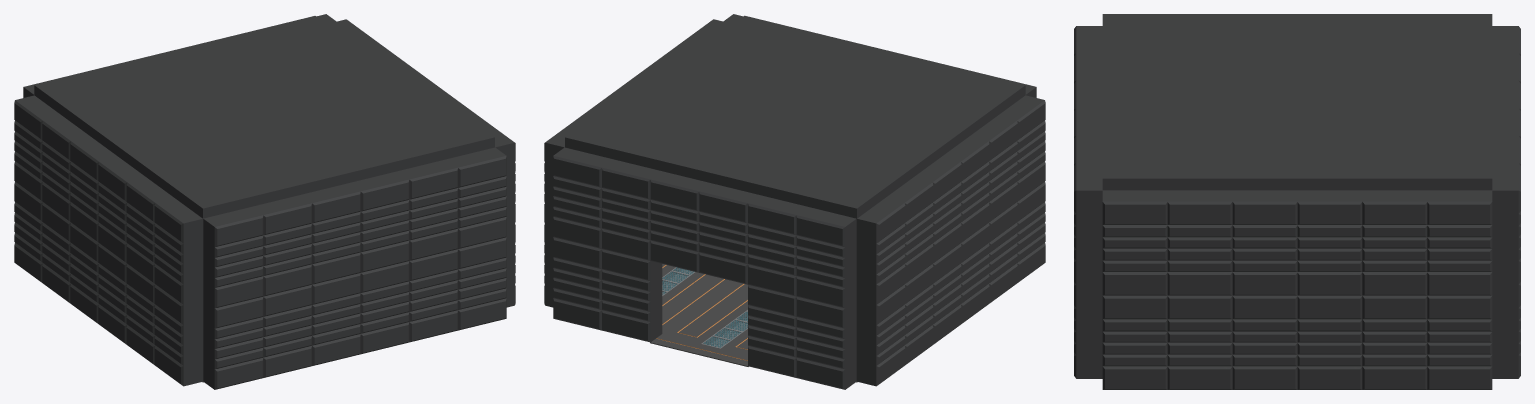
Rendered from room1.fbx.
The picture shows the model from 3 angles, left to right: view 1: azimuth 30°, elevation 25°; view 2: azimuth 150°, elevation 25°; view 3: azimuth 270°, elevation 25°; orthographic projection. The views are drawn at different scales.
Parts seen in each view (by area): view 1: wall2.005, celing.001, wall2.004, wall2.002, wall2.003; view 2: celing.001, wall2.003, wall2.004, floor.001, wall2.002, wall2.005; view 3: wall2.002, celing.001, wall2.003, wall2.005.
Boxes of the visible parts, x1,y1,x2,y2 form: wall2.005: (203, 147, 506, 389); celing.001: (34, 14, 494, 218); wall2.004: (14, 95, 203, 386); wall2.002: (337, 19, 515, 307); wall2.003: (23, 16, 315, 97); celing.001: (565, 14, 1025, 218); wall2.003: (553, 147, 856, 389); wall2.004: (856, 95, 1045, 386); floor.001: (650, 264, 857, 382); wall2.002: (544, 19, 722, 307); wall2.005: (744, 15, 1036, 97); wall2.002: (1102, 190, 1492, 389); celing.001: (1102, 14, 1492, 190); wall2.003: (1492, 26, 1520, 378); wall2.005: (1074, 26, 1102, 378).
Bounding box in the file's own units: 3440 × 1772 × 3440.
